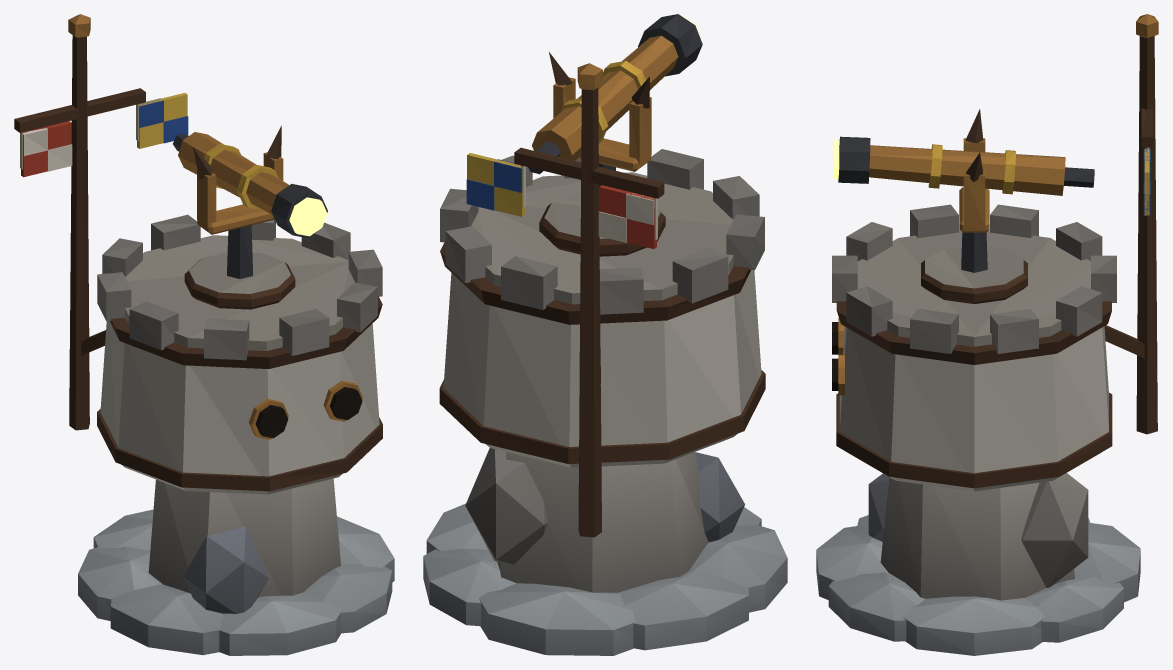
The model's file is owls_eye.glb.
3 views of the same model, side by side, from view 1: azimuth 30°, elevation 25°; view 2: azimuth 150°, elevation 25°; view 3: azimuth 270°, elevation 25° (orthographic). The views are drawn at different scales.
Visible parts, largest first — view 1: owls_eye; view 2: owls_eye; view 3: owls_eye.
Boxes of the visible parts, x1,y1,x2,y2 form: owls_eye: (14,14,394,655); owls_eye: (423,14,787,655); owls_eye: (816,14,1158,655).
Size of the model in its own units: 0.7464 by 1.4 by 0.7922.
